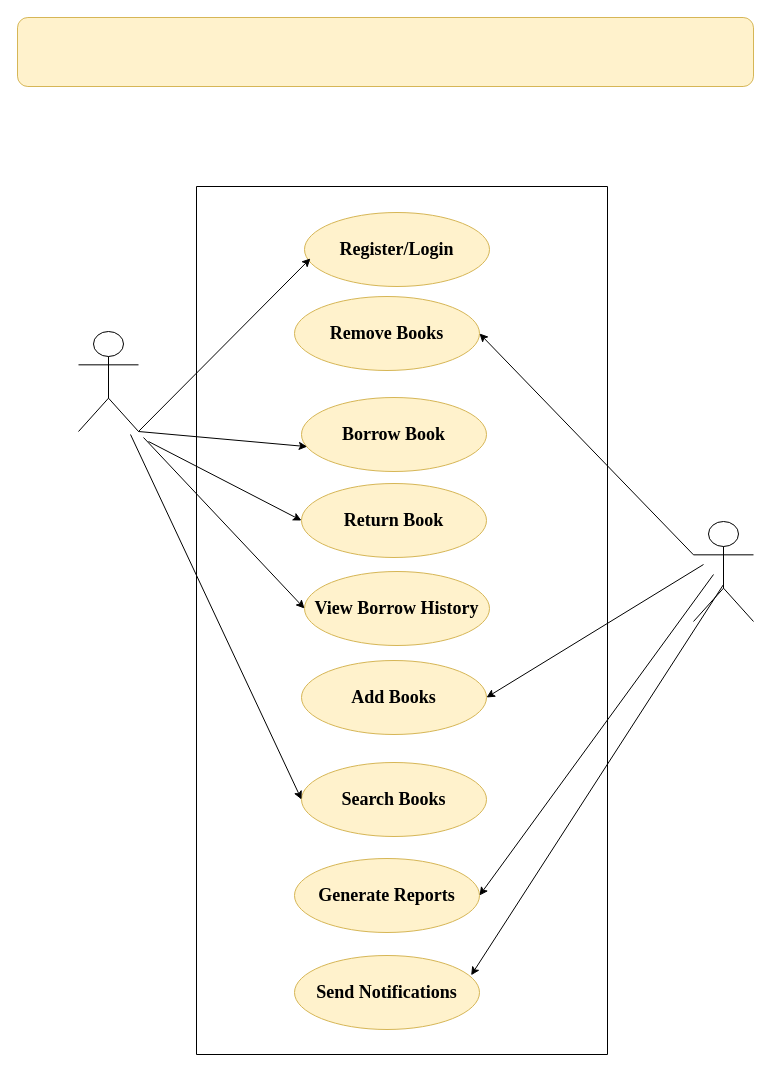
Image size: 771x1072. Some labels were removed from this diagram. The box of each missing label's shape, as (x1, y1, x2, y2) in pixels:
Admin: (692, 520, 754, 622)
Library Management System: (16, 16, 754, 86)
User: (78, 330, 138, 432)
